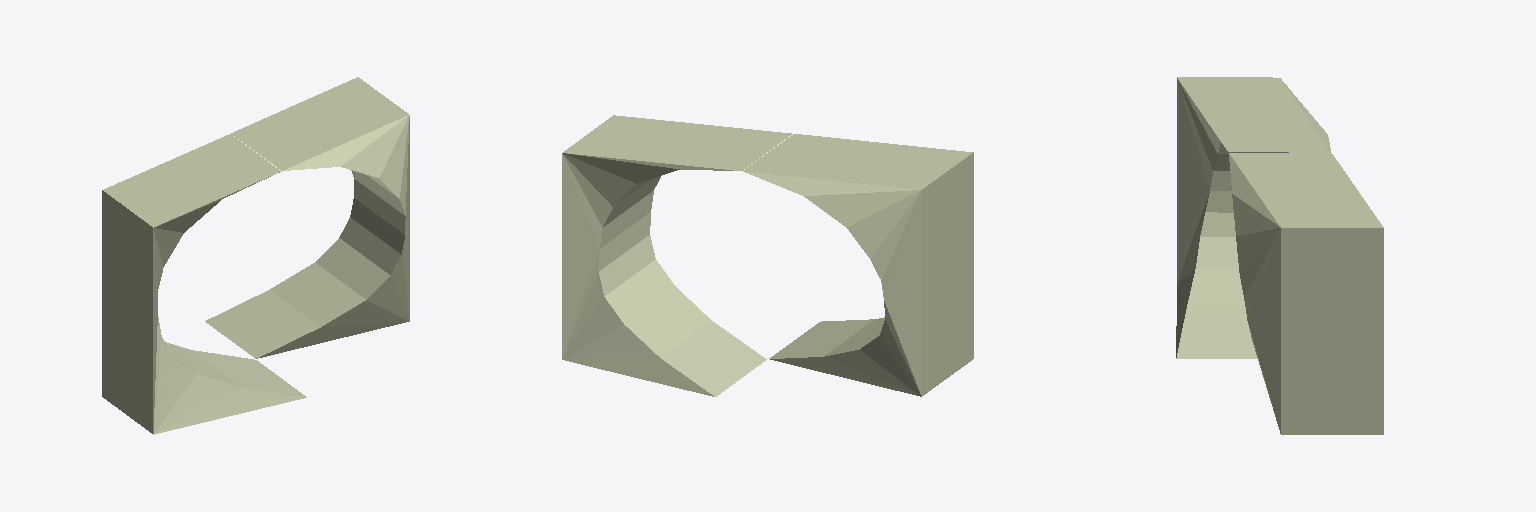
File: loop.obj
3 renders of one model, left to right at view 1: azimuth 30°, elevation 25°; view 2: azimuth 150°, elevation 25°; view 3: azimuth 270°, elevation 25°, orthographic.
Parts seen in each view (by area): view 1: Cube2, Cube2_copy4; view 2: Cube2_copy4, Cube2; view 3: Cube2, Cube2_copy4.
Boxes of the visible parts, x1=… form: Cube2: x1=205, y1=77, x2=409, y2=358; Cube2_copy4: x1=102, y1=134, x2=306, y2=434; Cube2_copy4: x1=743, y1=134, x2=973, y2=396; Cube2: x1=562, y1=115, x2=791, y2=396; Cube2: x1=1229, y1=153, x2=1383, y2=434; Cube2_copy4: x1=1176, y1=77, x2=1330, y2=358.
Size of the model in its own units: 12.07 by 7.75 by 7.05.